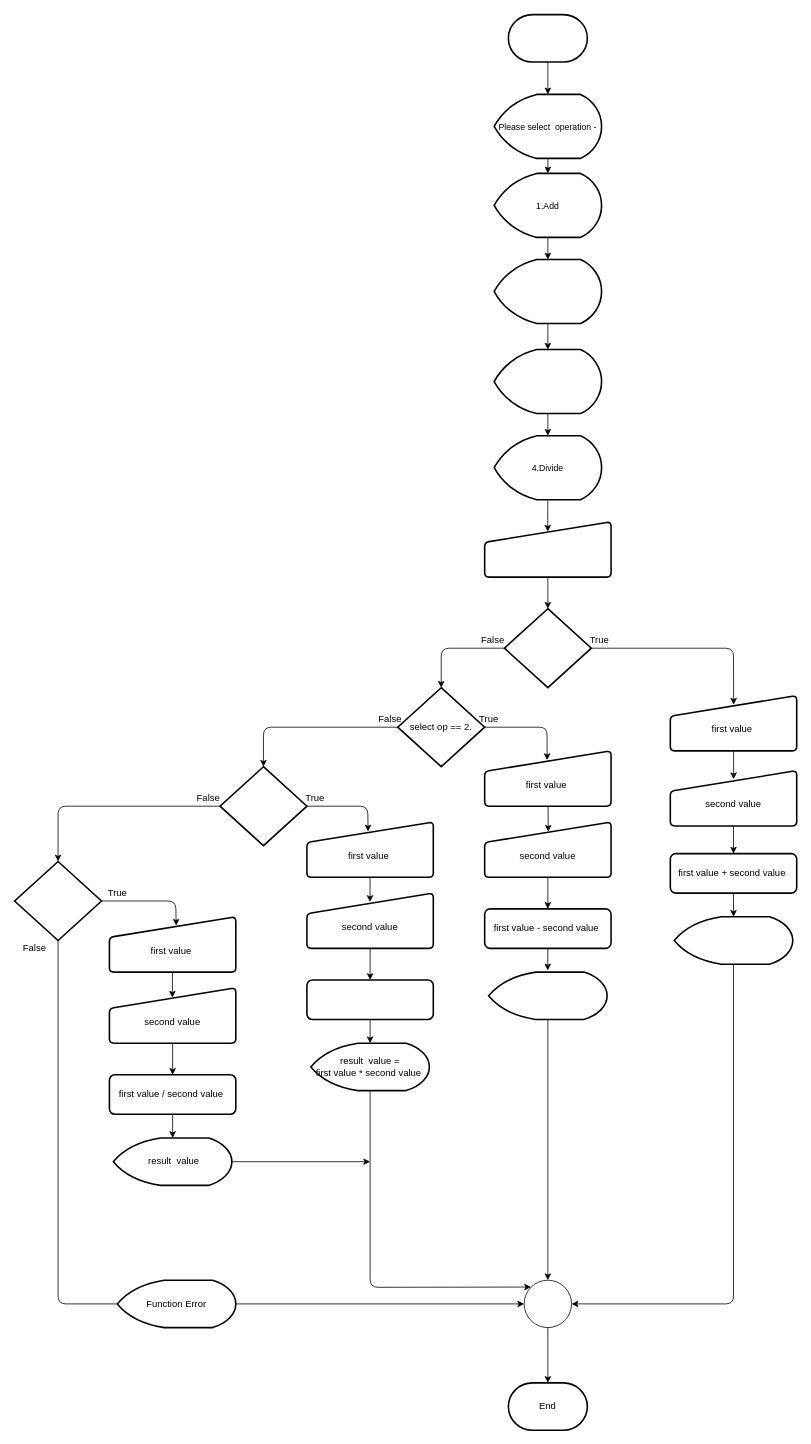
Some shapes in this 811 by 1444 pixel diagram are drawn without their labels. Each missing label, with the centre of its shape:
2.Subtract: point (547, 291)
3. Multiply: point (547, 381)
first value * second value: point (370, 999)
result value = first value + second value: point (733, 940)
result value = first value - second value: point (547, 995)
select op: point (547, 549)
select op == 1.: point (547, 648)
select op == 3.: point (263, 806)
select op == 4.: point (57, 900)
Start: point (547, 37)
